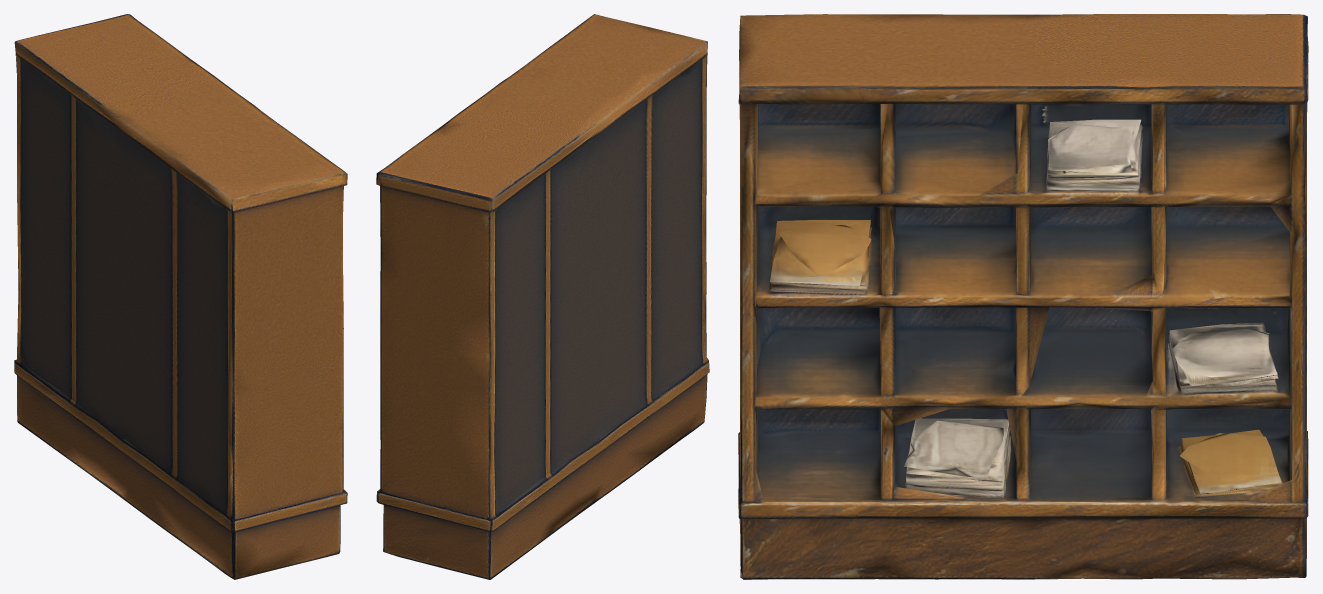
Rendered from OfficePigeonholes.fbx.
3 views of the same model, side by side, from view 1: azimuth 30°, elevation 25°; view 2: azimuth 150°, elevation 25°; view 3: azimuth 270°, elevation 25° (orthographic). The views are drawn at different scales.
Parts seen in each view (by area): view 1: tripo_node_46e49ef4-e088-4304-b892-43bb21b88d75; view 2: tripo_node_46e49ef4-e088-4304-b892-43bb21b88d75; view 3: tripo_node_46e49ef4-e088-4304-b892-43bb21b88d75.
Part boxes in pixels (x1,y1,x2,y2): tripo_node_46e49ef4-e088-4304-b892-43bb21b88d75: (14,14,347,579); tripo_node_46e49ef4-e088-4304-b892-43bb21b88d75: (376,14,709,579); tripo_node_46e49ef4-e088-4304-b892-43bb21b88d75: (738,14,1308,579).
Size of the model in its own units: 30.88 by 96.59 by 100.
1 material, 1 textured.
